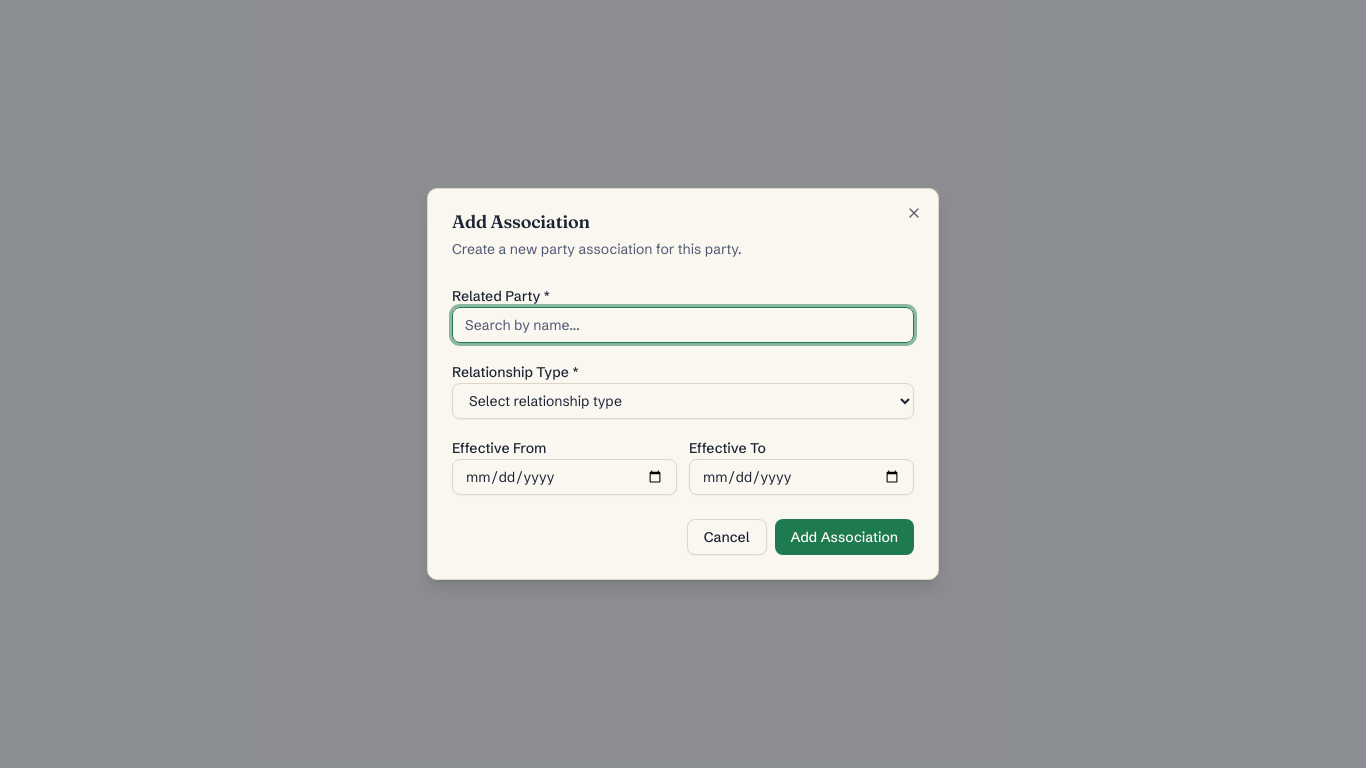
Test: RegisterAssociationsDialog - party search › clears selected party ID when input is cleared after selection
The image size is (1366, 768).
Type "Ac" into the dropdown labelled "Related Party *".
click(683, 325); type("Ac")  # box [452,307,914,343]
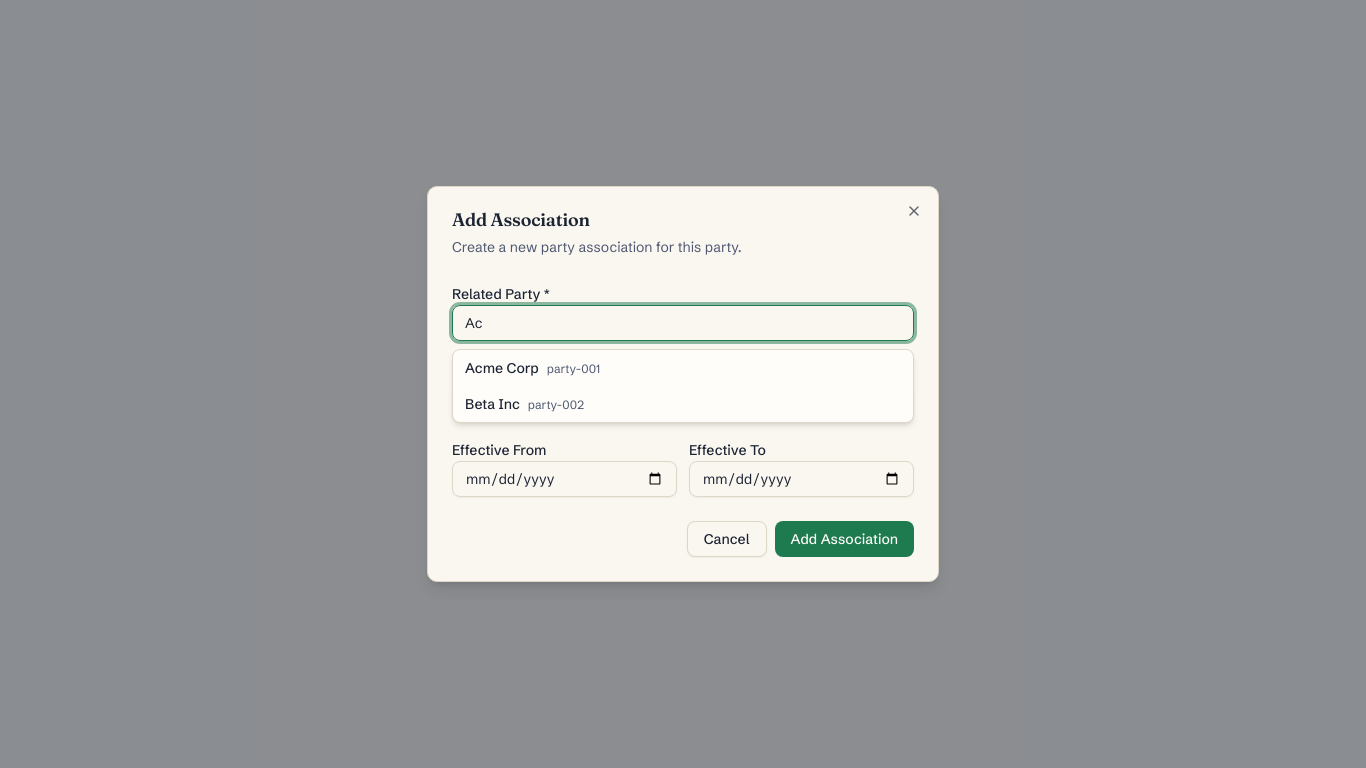
Expected: the text "Acme Corp" is shown
Click the text "Acme Corp".
click(502, 368)  # box [465,359,539,377]
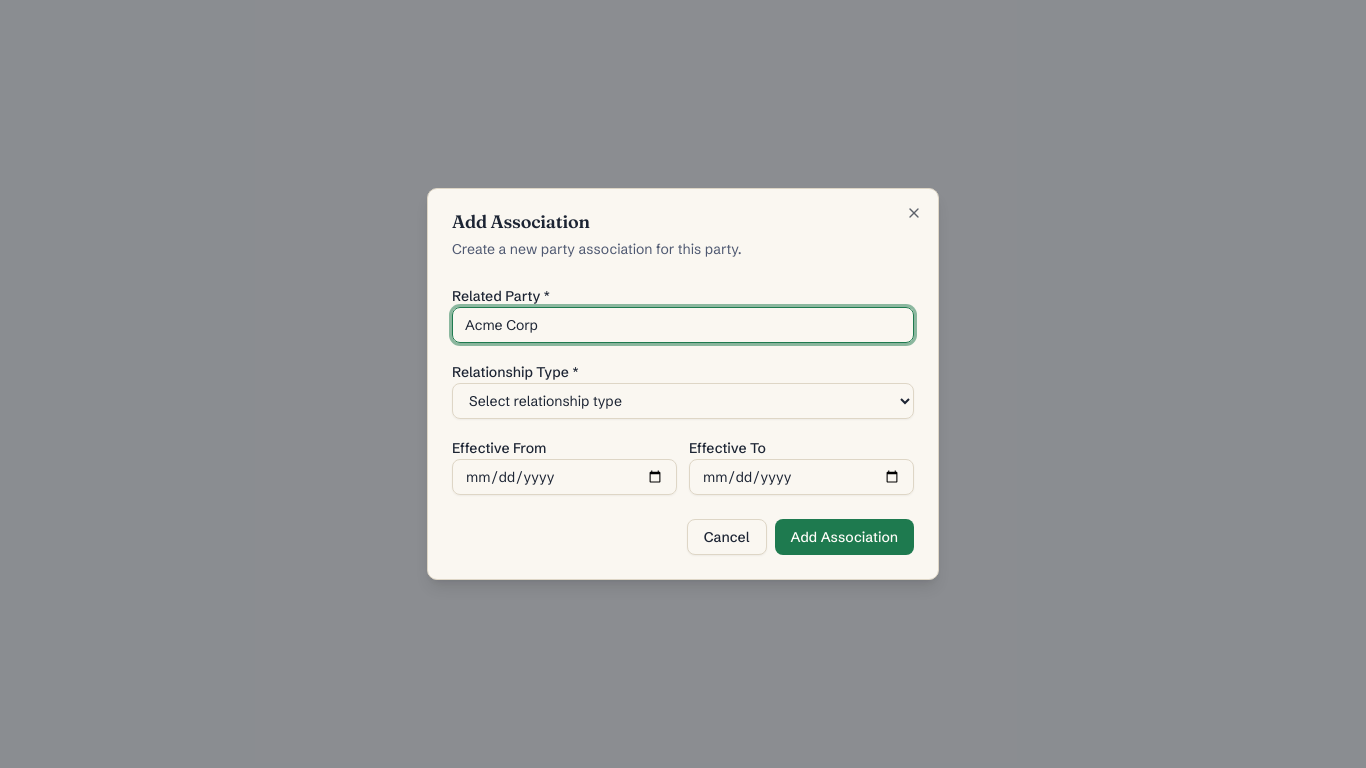
Expected: the dropdown labelled "Related Party *" holds "Acme Corp"
Clear the input - submission should fail without a re-selection
Clear the dropdown labelled "Related Party *" at point(683, 325), box [452,307,914,343]
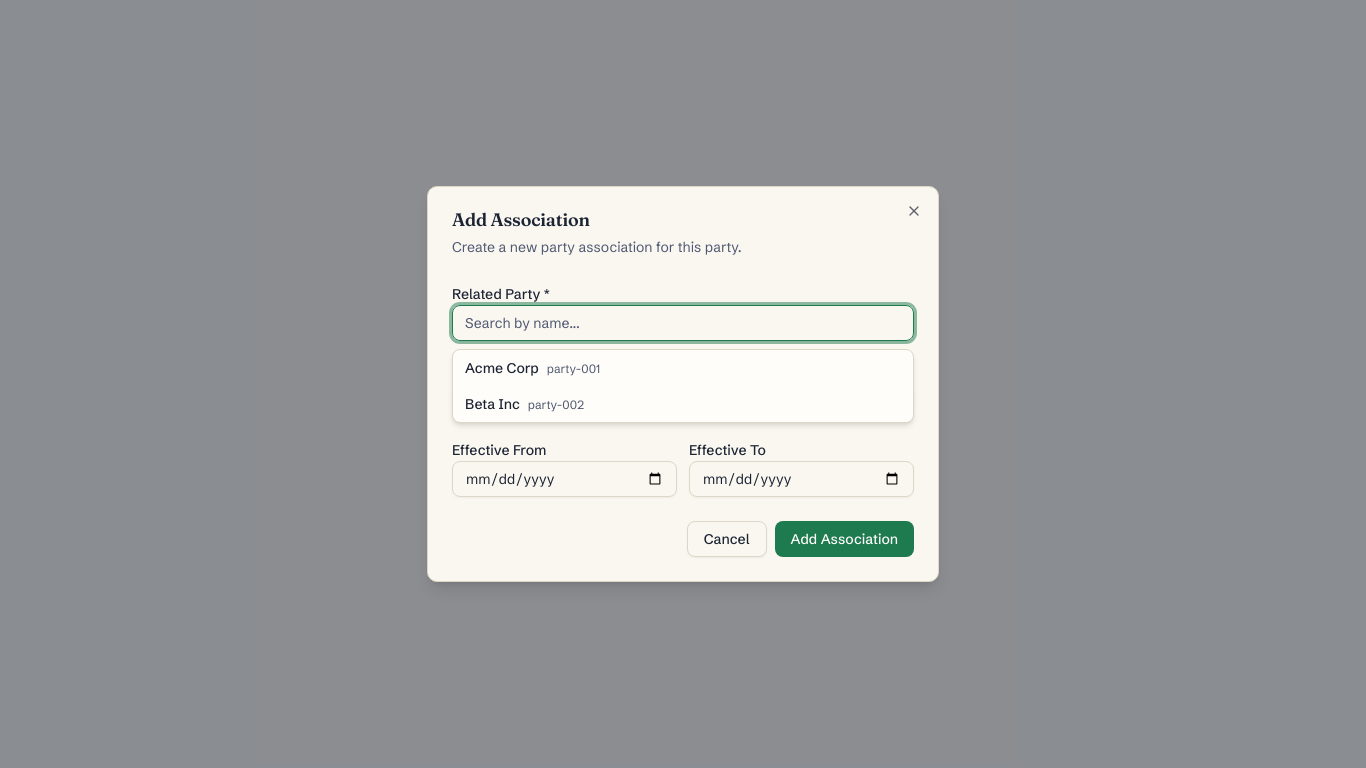
After clearing and submitting, should show error (party was deselected)
Click the button "Add Association".
click(844, 539)  # box [774,521,914,557]
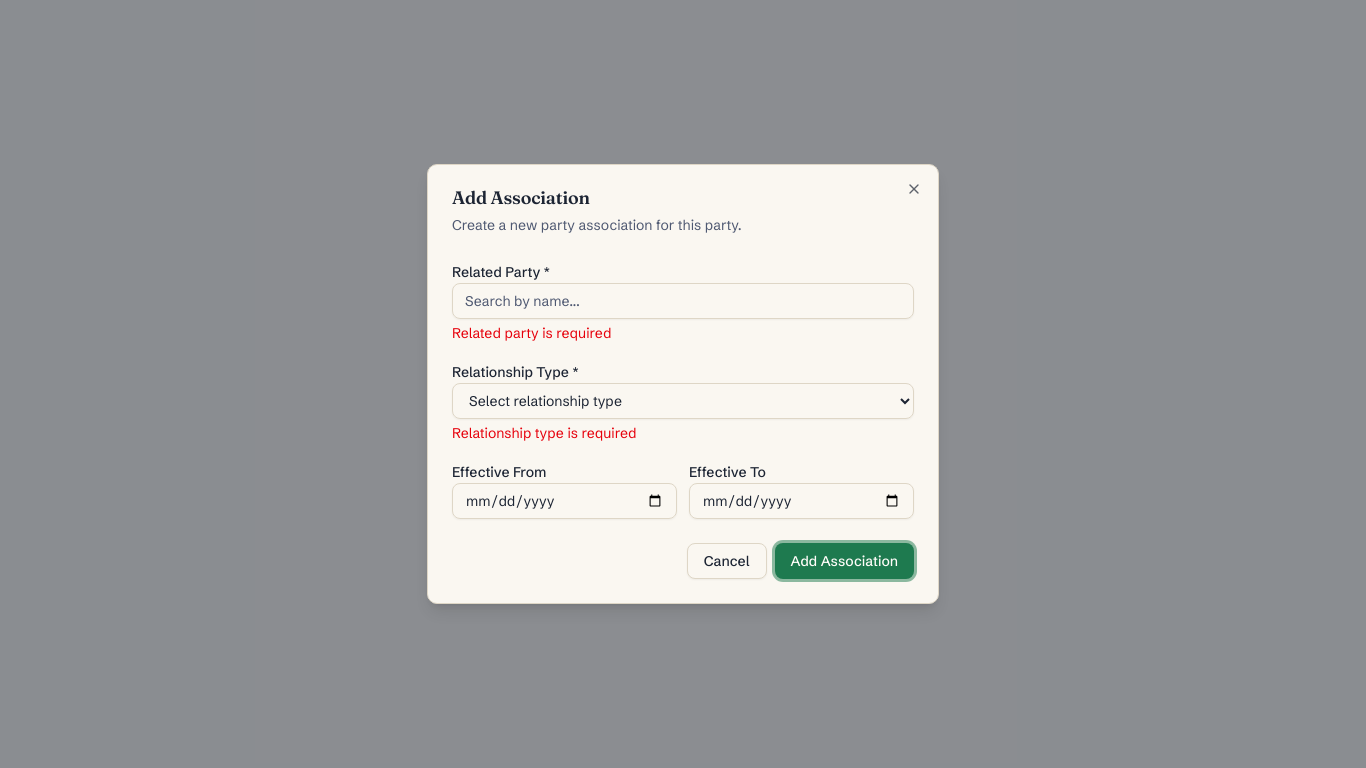
Expected: the text "Related party is required" is shown, [452,324,611,342]
